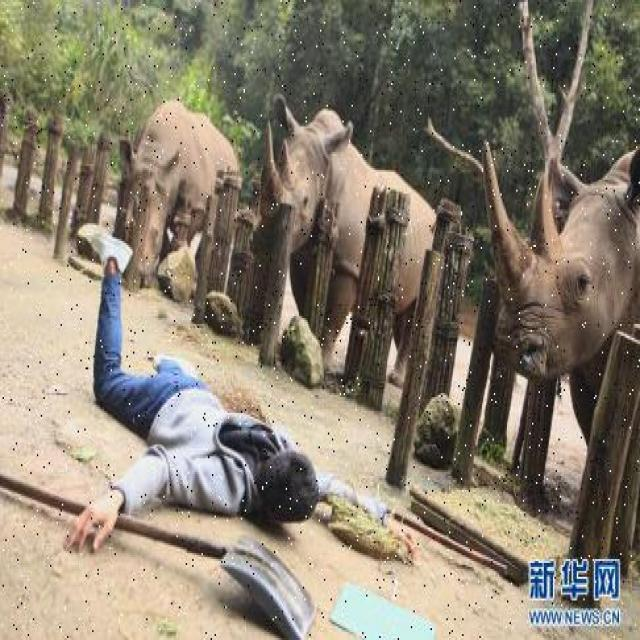fall: (80, 237, 336, 539)
